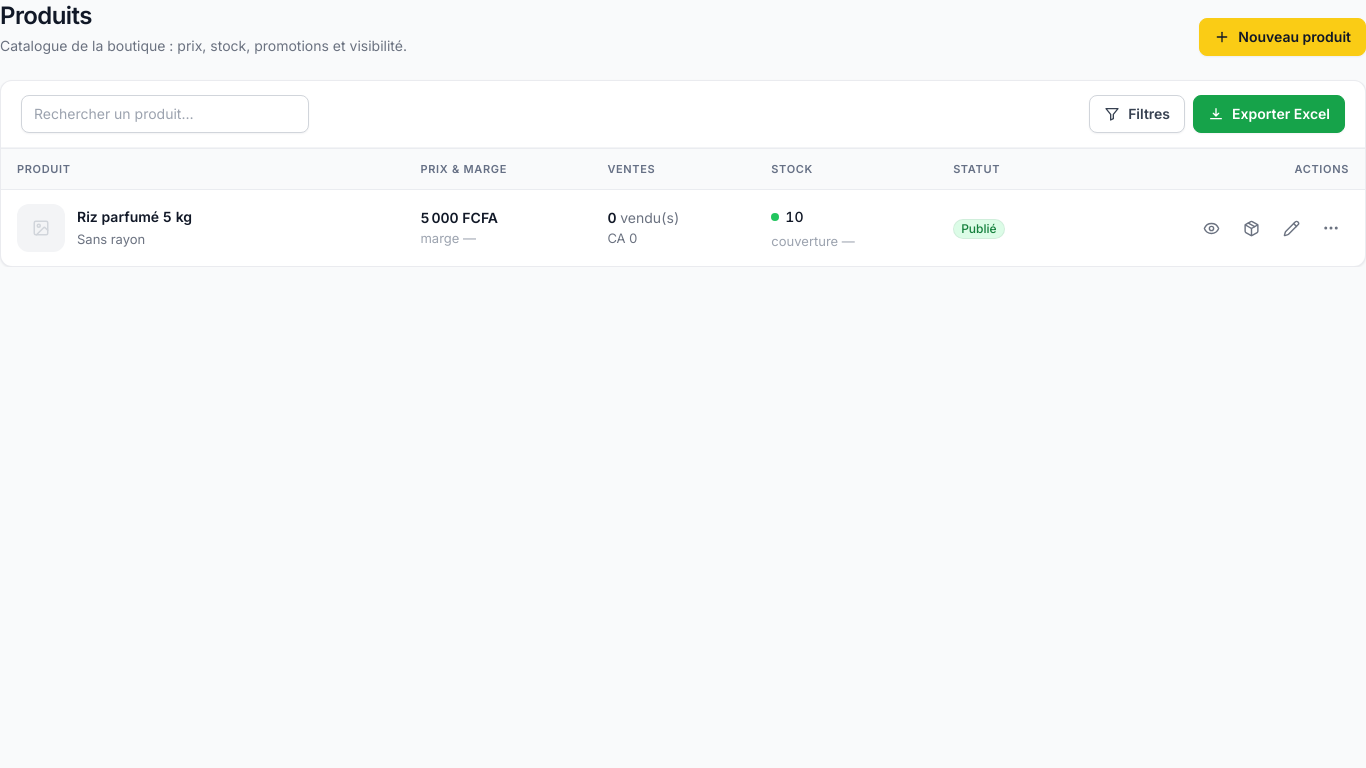
Produits : modification du stock depuis la liste › fait disparaître le message dès que le motif est choisi
Check: the link "Riz parfumé 5 kg" is shown, box x1=77 y1=207 x2=192 y2=227
Click the button named "Modifier le stock" at (1251, 228), box x1=1233 y1=210 x2=1269 y2=246
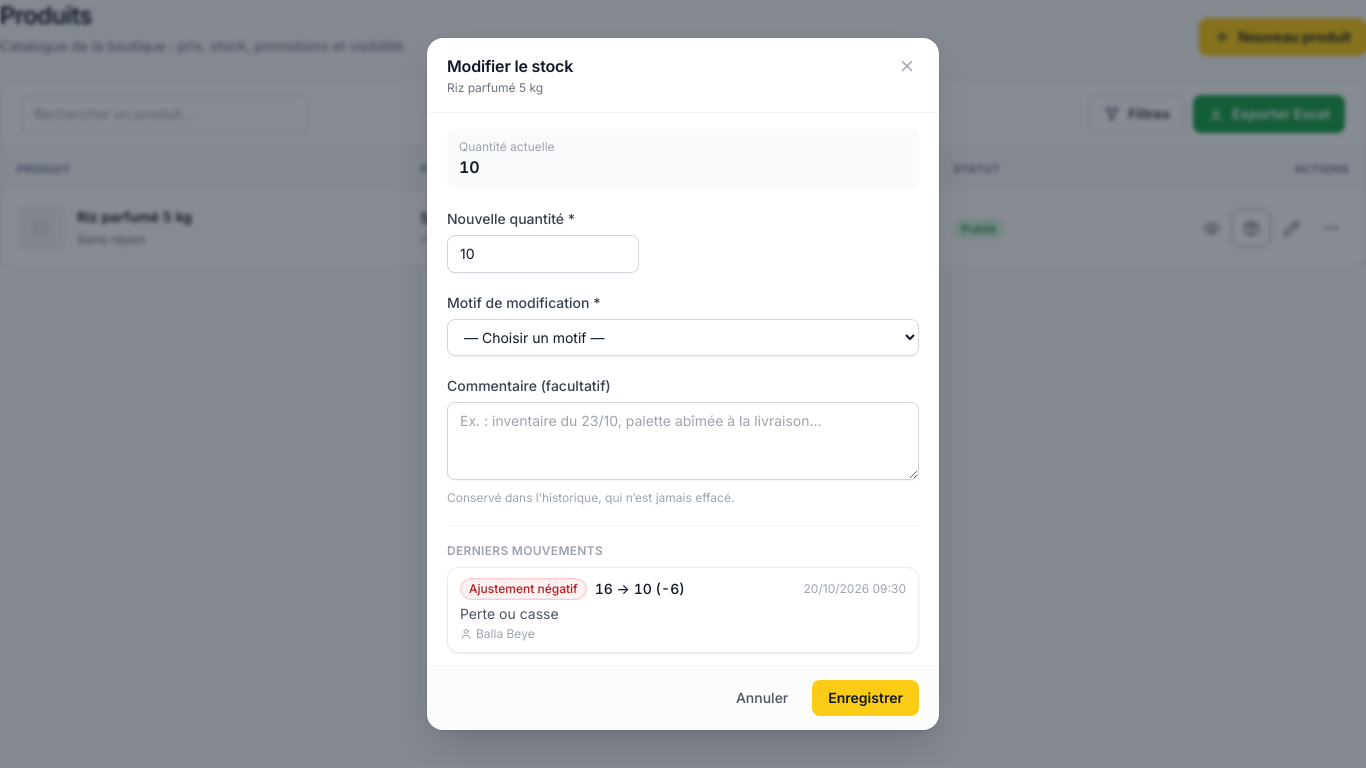
Click the button "Enregistrer" at (866, 698), box x1=812 y1=680 x2=919 y2=716
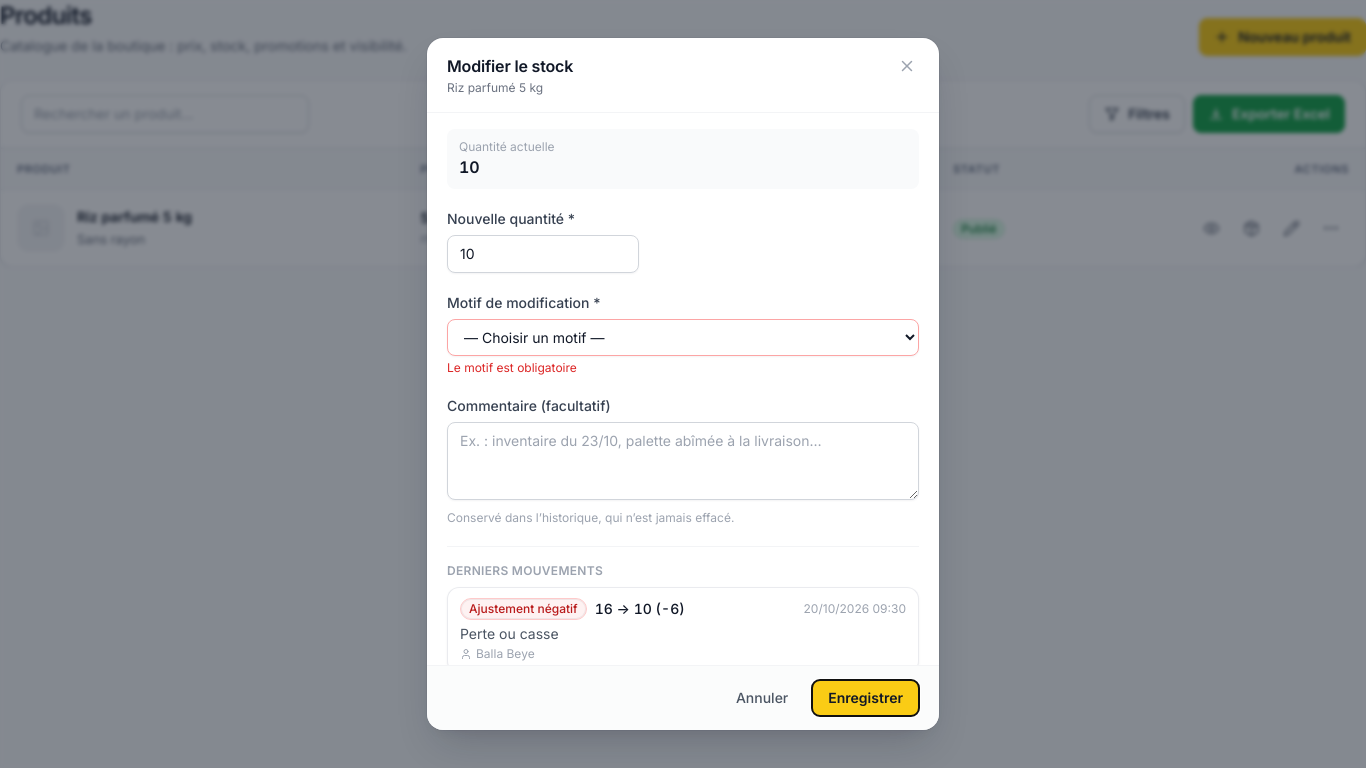
Check: the text "Le motif est obligatoire" is shown, box x1=447 y1=360 x2=577 y2=375
Select "Correction après inventaire" in the dropdown labelled "Motif de modification *" at (683, 338), box x1=447 y1=319 x2=919 y2=356
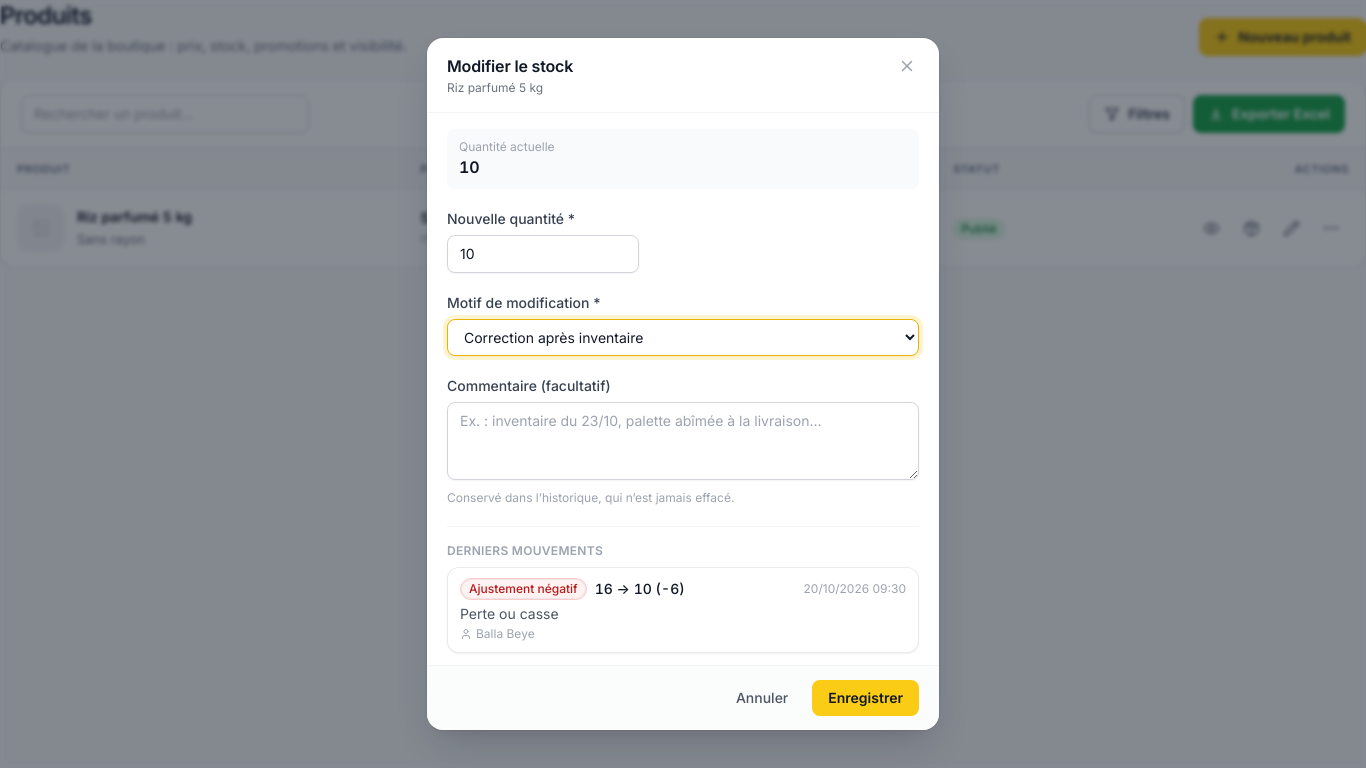
Check: the text "Le motif est obligatoire" is gone
